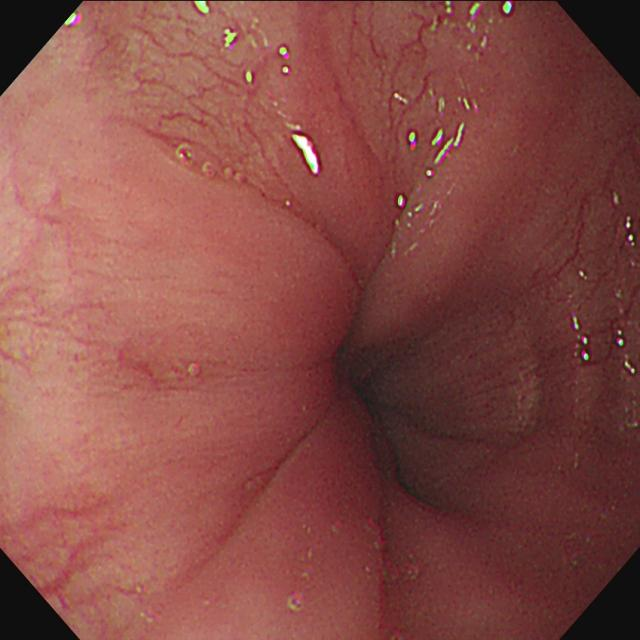E: (337, 331, 422, 501)
U: (432, 122, 468, 167), (294, 133, 322, 176)
